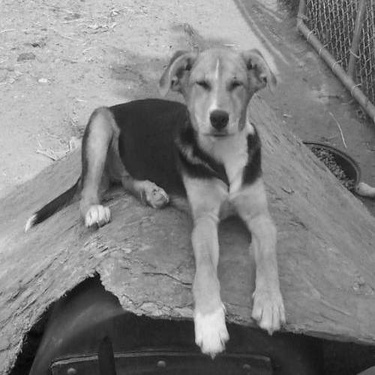dog: (18, 39, 291, 360)
